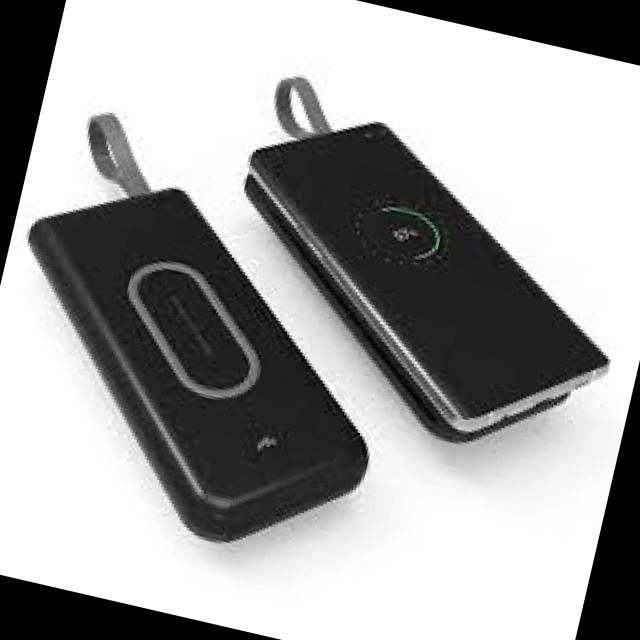power_bank: (0, 151, 426, 580)
